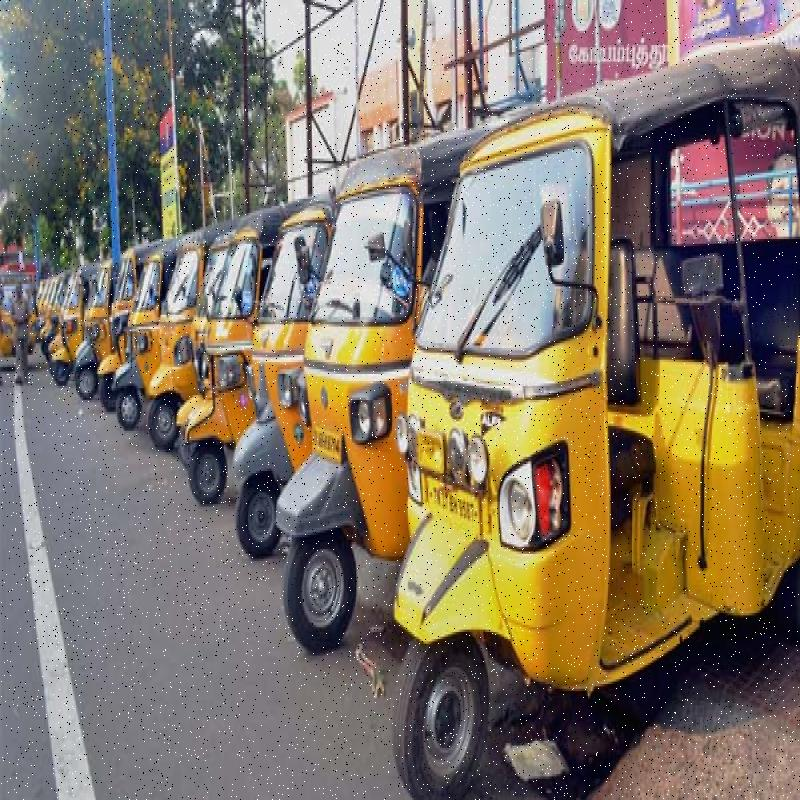auto: (393, 91, 781, 781), (299, 137, 436, 584)
